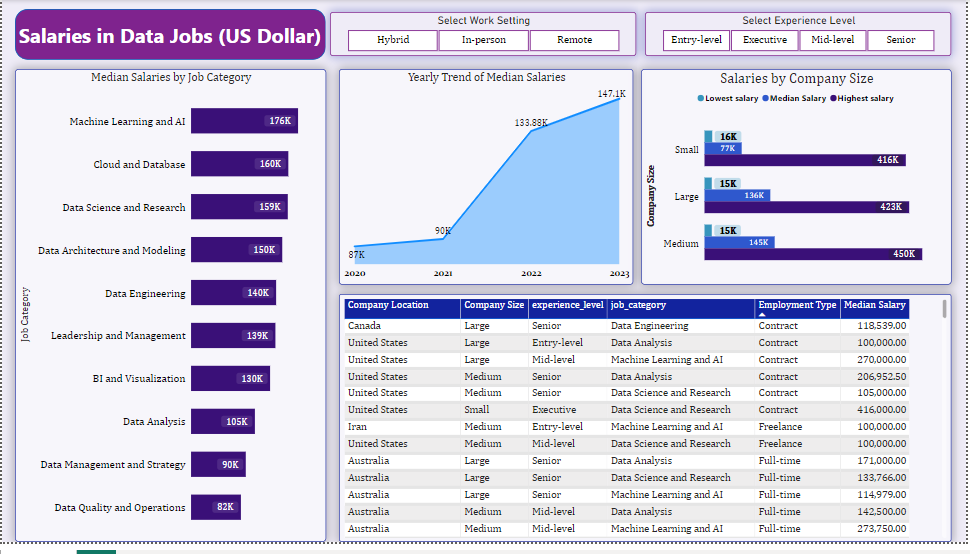

The dashboard page shown, as its layout file describes it:
{"tool":"powerbi","page":{"name":"Page 1","canvas":[1532,862],"ordinal":0},"visuals":[{"type":"clusteredBarChart","title":"Salaries by Company Size","fields":{"Category":["jobs_in_data.company_size"],"Y":["jobs_in_data.Lowest salary","jobs_in_data.Median Salary","jobs_in_data.Highest salary"]},"box":[1016.2,110.4,494.1,343.4],"z":0},{"type":"areaChart","title":"Yearly Trend of Median Salaries","fields":{"Category":["jobs_in_data.work_year"],"Y":["jobs_in_data.Median Salary"]},"box":[536.1,110.4,467.8,343.4],"z":1000},{"type":"barChart","title":"Median Salaries by Job Category","fields":{"Y":["jobs_in_data.Median Salary"],"Category":["jobs_in_data.job_category"]},"box":[21.3,109.9,494.7,751.8],"z":2000},{"type":"slicer","title":"Select Experience Level","fields":{"Values":["jobs_in_data.experience_level"]},"box":[1023.2,19.3,487.1,70.1],"z":3000},{"type":"tableEx","fields":{"Values":["jobs_in_data.company_location","jobs_in_data.company_size","jobs_in_data.experience_level","jobs_in_data.job_category","jobs_in_data.employment_type","jobs_in_data.Median Salary"]},"box":[536.1,467.8,974.1,394.2],"z":4000},{"type":"slicer","title":"Select Work Setting","fields":{"Values":["jobs_in_data.work_setting"]},"box":[522.1,19.3,487.1,70.1],"z":5000},{"type":"shape","box":[21,14,494.1,80.6],"z":6000}]}

Visuals, with their boxes in screenshot pixels (x1, y1, x2, y2), scaled from the page's 1532x862 canvas onto the 970x554 screenshot:
"Salaries by Company Size" clusteredBarChart: bbox(643, 71, 956, 292)
"Yearly Trend of Median Salaries" areaChart: bbox(339, 71, 636, 292)
"Median Salaries by Job Category" barChart: bbox(13, 71, 327, 553)
"Select Experience Level" slicer: bbox(648, 12, 956, 57)
tableEx - jobs_in_data.company_location x jobs_in_data.company_size: bbox(339, 301, 956, 553)
"Select Work Setting" slicer: bbox(331, 12, 639, 57)
shape: bbox(13, 9, 326, 61)
